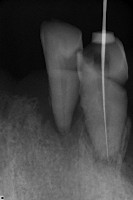Dental Caries: (0, 70, 133, 186)
